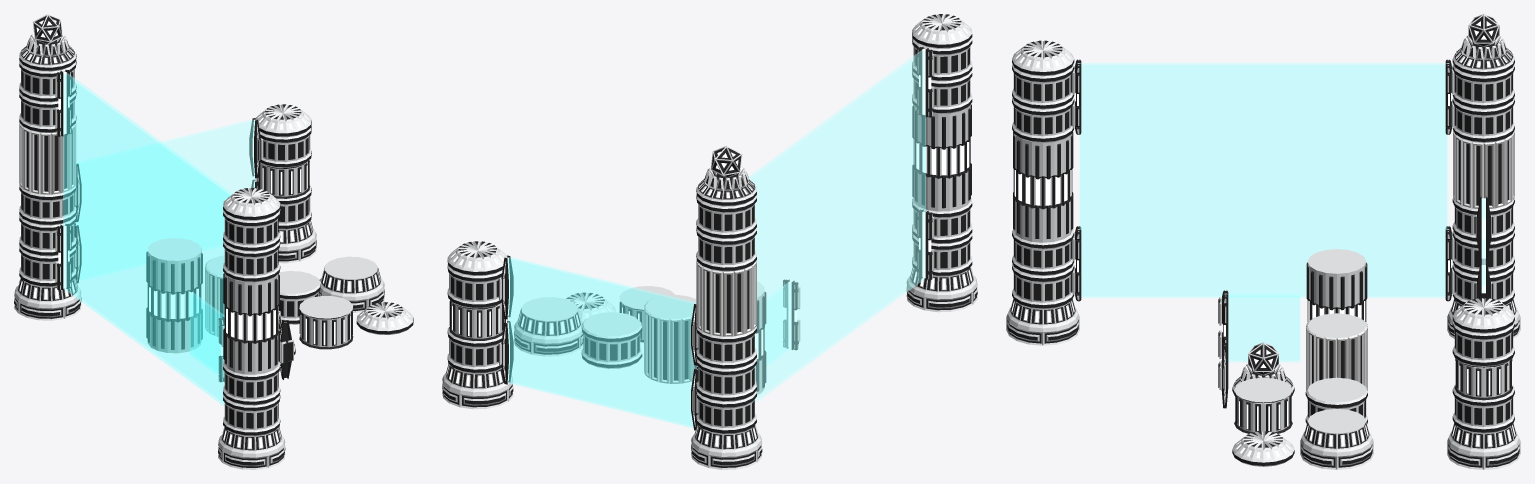
The model's file is power-shield.glb.
The picture shows the model from 3 angles, left to right: view 1: azimuth 30°, elevation 25°; view 2: azimuth 150°, elevation 25°; view 3: azimuth 270°, elevation 25°; orthographic projection. The views are drawn at different scales.
Visible parts, largest first — view 1: ShieldFencePillar_ForceField.002, ShieldFencePillar_ForceField.001, ShieldFencePillar_LongPowerPillar.001, ShieldFencePillar_LongPowerPillar.002, ShieldFencePillar_Pillar.001, ShieldFencePillar_Foundation, ShieldFencePillar_PowerPillar, ShieldFencePillar_Foundation.003, ShieldFencePillar_Foundation.002, ShieldFencePillar_ForceField, ShieldFencePillar_Holder.010, ShieldFencePillar_Holder.012 (+22 smaller); view 2: ShieldFencePillar_ForceField.002, ShieldFencePillar_ForceField.001, ShieldFencePillar_LongPowerPillar.002, ShieldFencePillar_Pillar, ShieldFencePillar_Pillar.001, ShieldFencePillar_Foundation, ShieldFencePillar_Holder, ShieldFencePillar_Foundation.002, ShieldFencePillar_Foundation.003, ShieldFencePillar_Foundation.001, ShieldFencePillar_Holder.002, ShieldFencePillar_Holder.006 (+23 smaller); view 3: ShieldFencePillar_ForceField.002, ShieldFencePillar_LongPowerPillar.002, ShieldFencePillar_ForceField, ShieldFencePillar_Pillar.001, ShieldFencePillar_Pillar, ShieldFencePillar_LongPowerPillar.001, ShieldFencePillar_Foundation, ShieldFencePillar_PowerPillar, ShieldFencePillar_Foundation.003, ShieldFencePillar_Foundation.001, ShieldFencePillar_Holder.001, ShieldFencePillar_Holder.003 (+24 smaller).
Part boxes in pixels (x1,y1,x2,y2): ShieldFencePillar_ForceField.002: (63,72,231,406); ShieldFencePillar_ForceField.001: (76,119,254,280); ShieldFencePillar_LongPowerPillar.001: (146,238,202,353); ShieldFencePillar_LongPowerPillar.002: (223,273,279,374); ShieldFencePillar_Pillar.001: (19,122,76,194); ShieldFencePillar_Foundation: (319,256,384,312); ShieldFencePillar_PowerPillar: (299,296,353,349); ShieldFencePillar_Foundation.003: (218,427,285,469); ShieldFencePillar_Foundation.002: (14,277,81,320); ShieldFencePillar_ForceField: (190,293,224,374); ShieldFencePillar_Holder.010: (223,361,280,405); ShieldFencePillar_Holder.012: (223,209,280,251); ShieldFencePillar_ForceField.002: (748,50,925,402); ShieldFencePillar_ForceField.001: (508,257,696,427); ShieldFencePillar_LongPowerPillar.002: (912,104,971,211); ShieldFencePillar_Pillar: (644,295,698,383); ShieldFencePillar_Pillar.001: (696,259,756,336); ShieldFencePillar_Foundation: (514,297,583,356); ShieldFencePillar_Holder: (581,312,642,368); ShieldFencePillar_Foundation.002: (691,424,762,469); ShieldFencePillar_Foundation.003: (906,267,977,312); ShieldFencePillar_Foundation.001: (442,364,513,409); ShieldFencePillar_Holder.002: (696,389,756,434); ShieldFencePillar_Holder.006: (696,227,756,271); ShieldFencePillar_ForceField.002: (1080,63,1446,297); ShieldFencePillar_LongPowerPillar.002: (1013,132,1073,242); ShieldFencePillar_ForceField: (1228,294,1299,361); ShieldFencePillar_Pillar.001: (1453,130,1514,208); ShieldFencePillar_Pillar: (1306,313,1367,390); ShieldFencePillar_LongPowerPillar.001: (1306,249,1367,324); ShieldFencePillar_Foundation: (1300,409,1373,469); ShieldFencePillar_PowerPillar: (1234,377,1292,433); ShieldFencePillar_Foundation.003: (1006,299,1079,345); ShieldFencePillar_Foundation.001: (1447,423,1520,469); ShieldFencePillar_Holder.001: (1452,384,1514,433); ShieldFencePillar_Holder.003: (1452,321,1514,366).
Bounding box in the file's own units: 500 × 497 × 700.
2 materials, 1 textured.
